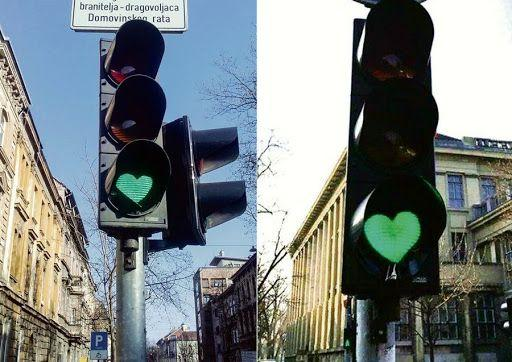Traffic light green: (100, 31, 194, 252)
